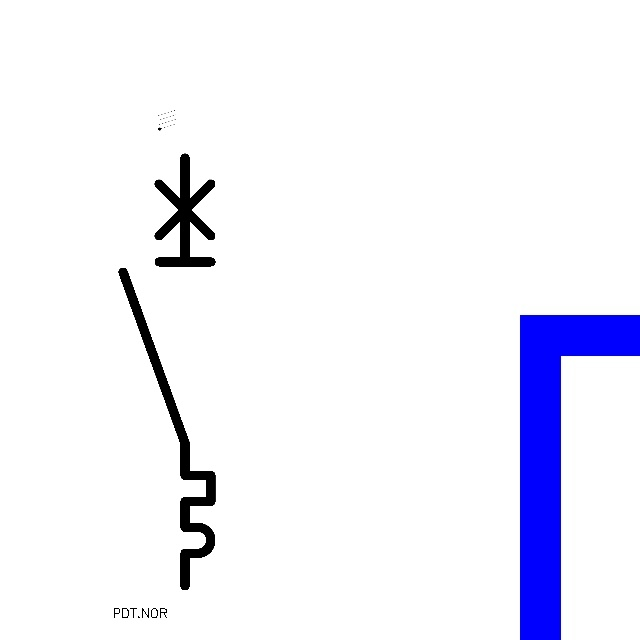interruptor_termomagnetico: (112, 146, 222, 596)
